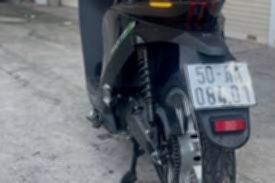Bien-so: (181, 53, 258, 107)
